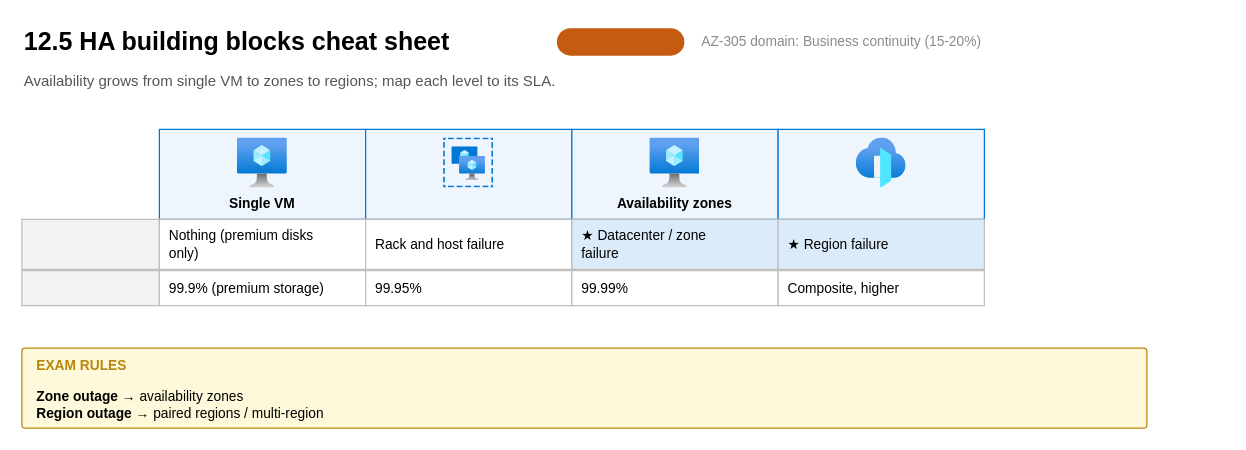
This 1246x450 diagram has some shape labels left out. The shapes that lost their labels are listed below. From the top down, each one's centre as x and y in pixels, then its label:
[620,41]: Decision map
[468,173]: Availability set
[880,173]: Multi-region
[90,243]: Protects against
[90,287]: Typical SLA
